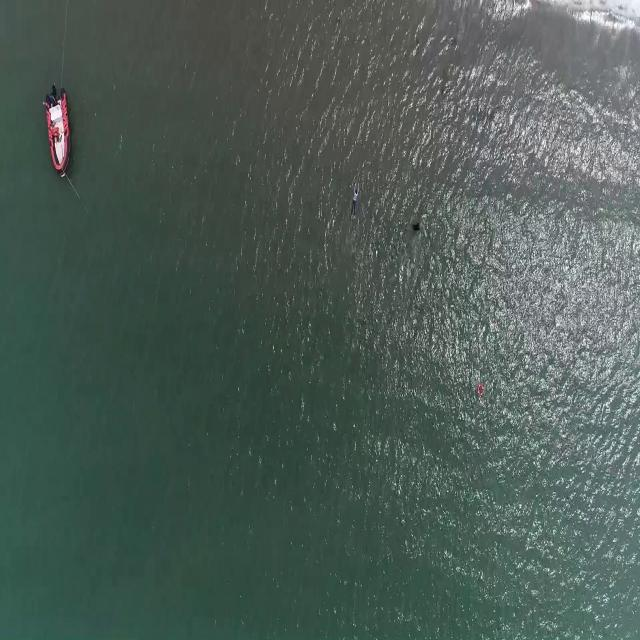boat: (42, 86, 72, 174)
life_buoy: (476, 383, 485, 398)
person: (350, 179, 361, 218), (412, 217, 421, 237)
